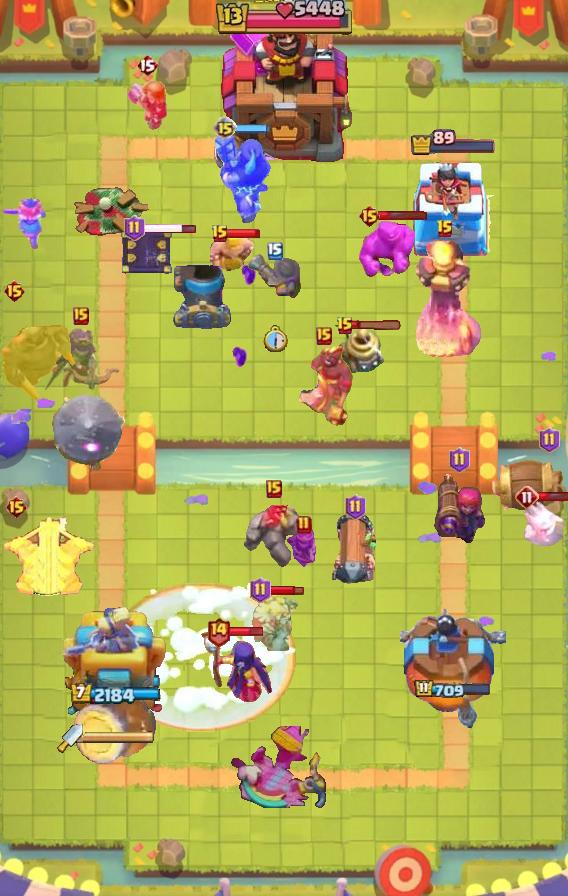archer: (210, 231, 258, 275)
axe: (198, 629, 274, 703)
bar: (60, 607, 168, 731)
barbarian-hut: (40, 326, 122, 402)
bat: (522, 500, 566, 546)
battle-healer: (330, 508, 380, 596)
bomb-tower: (245, 250, 305, 304)
cannon: (286, 525, 322, 573)
clock: (213, 0, 355, 38)
dirt: (72, 689, 158, 767)
electro-dragon: (406, 238, 484, 364)
elixir: (262, 325, 288, 353)
emote: (143, 221, 198, 234), (351, 320, 403, 331), (378, 210, 428, 221), (268, 584, 304, 596), (236, 122, 272, 133), (229, 626, 264, 637), (227, 229, 261, 240), (537, 490, 567, 501)
freeze: (294, 344, 354, 430)
goblin-drill: (335, 325, 387, 377)
golemite: (0, 306, 76, 402)
hog-rider: (0, 197, 48, 251), (126, 80, 168, 130)
ice-spirit-evolution-symbol: (119, 227, 173, 277)
inferno-dragon: (213, 129, 271, 223)
king-tower: (211, 7, 357, 181)
king-tower-bar: (83, 731, 155, 745)
lava-pup: (0, 517, 98, 599)
mega-minion: (433, 471, 485, 543)
mortar-evolution: (247, 589, 301, 651)
musketeer: (173, 265, 233, 329)
phoenix-big: (106, 583, 298, 733)
queen-tower: (400, 603, 506, 731), (408, 158, 498, 256)
selected: (411, 128, 498, 155), (68, 683, 159, 706), (414, 679, 492, 700)
text: (206, 616, 231, 647), (213, 116, 237, 140), (515, 485, 539, 509), (4, 495, 28, 519), (358, 204, 381, 228), (3, 279, 26, 303), (123, 215, 144, 241), (540, 427, 561, 453), (449, 447, 470, 473), (346, 494, 367, 520), (249, 577, 270, 603), (136, 53, 158, 77), (436, 219, 454, 239), (211, 224, 229, 244), (336, 316, 354, 336), (296, 515, 312, 535), (267, 242, 283, 260), (73, 307, 89, 325), (316, 327, 332, 345), (266, 480, 282, 498)
the-log: (488, 457, 568, 517)
tornado: (359, 219, 415, 279)
valkyrie-evolution: (240, 503, 308, 573)
x-bow: (46, 393, 126, 473)
